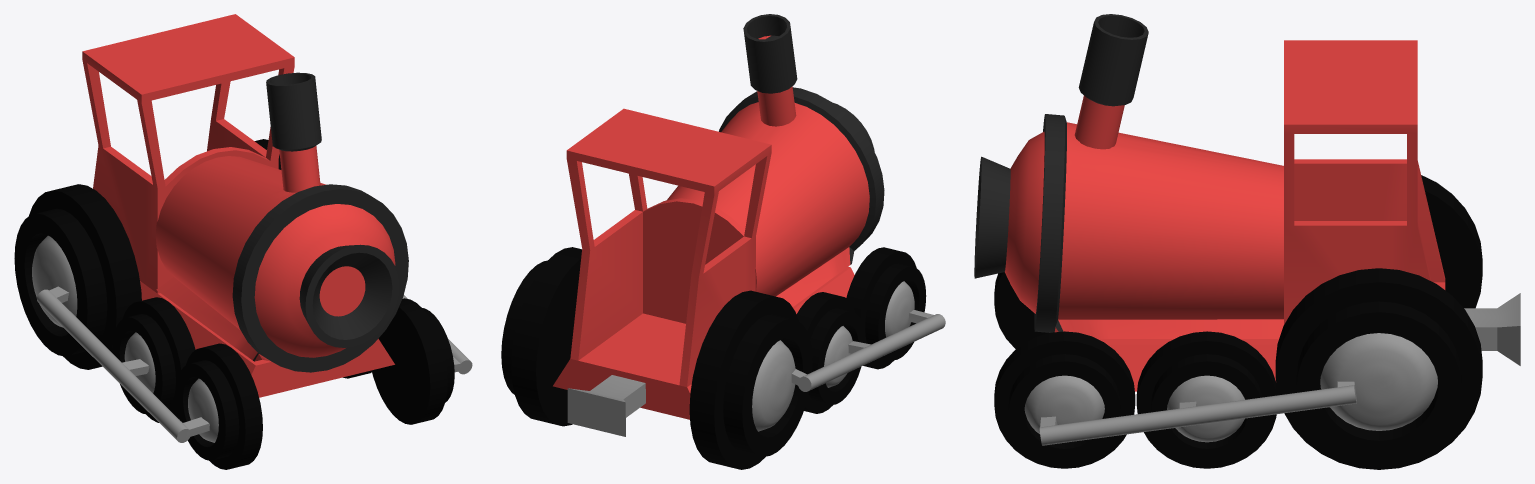
The model's file is Train.fbx.
The picture shows the model from 3 angles, left to right: view 1: azimuth 30°, elevation 25°; view 2: azimuth 150°, elevation 25°; view 3: azimuth 270°, elevation 25°; orthographic projection. The views are drawn at different scales.
Visible parts, largest first — view 1: Cylinder.017, Cylinder.007, Cylinder.002, Cylinder.008, Cylinder.011, Cylinder.006, Cylinder.015, Cylinder.021, Cylinder.018; view 2: Cylinder.007, Cylinder.017, Cylinder.002, Cylinder.018, Cylinder.009, Cylinder.008, Cylinder.006, Cylinder.015, Cylinder.021; view 3: Cylinder.017, Cylinder.009, Cylinder.007, Cylinder.011, Cylinder.010, Cylinder.015, Cylinder.012, Cylinder.002, Cylinder.018, Cylinder.008.
Boxes of the visible parts, x1,y1,x2,y2 form: Cylinder.017: (155, 156, 408, 372); Cylinder.007: (82, 14, 294, 293); Cylinder.002: (14, 184, 141, 369); Cylinder.008: (176, 343, 262, 469); Cylinder.011: (371, 298, 454, 424); Cylinder.006: (113, 297, 195, 422); Cylinder.015: (266, 72, 321, 192); Cylinder.021: (36, 286, 209, 442); Cylinder.018: (140, 281, 394, 397); Cylinder.007: (566, 108, 771, 386); Cylinder.017: (666, 87, 884, 307); Cylinder.002: (689, 290, 812, 469); Cylinder.018: (553, 266, 854, 436); Cylinder.009: (501, 247, 581, 426); Cylinder.008: (846, 247, 926, 369); Cylinder.006: (796, 292, 865, 413); Cylinder.015: (743, 14, 797, 126); Cylinder.021: (791, 310, 945, 391); Cylinder.017: (974, 114, 1283, 338); Cylinder.009: (1275, 268, 1482, 469); Cylinder.007: (1284, 40, 1445, 324); Cylinder.011: (994, 331, 1135, 468); Cylinder.010: (1136, 331, 1277, 468); Cylinder.015: (1074, 14, 1148, 149); Cylinder.012: (1039, 381, 1356, 445); Cylinder.002: (1421, 175, 1482, 308); Cylinder.018: (1098, 282, 1520, 391); Cylinder.008: (994, 272, 1048, 348).
Bounding box in the file's own units: 220 × 247 × 312.
